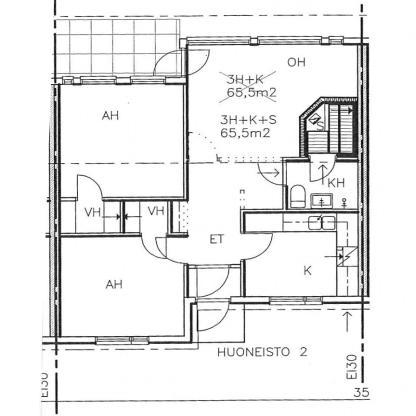bathroom: (284, 161, 362, 212)
door: (150, 48, 211, 80), (181, 266, 232, 300), (192, 297, 232, 335), (153, 234, 192, 267), (306, 147, 338, 185), (238, 230, 275, 262), (73, 173, 108, 204), (140, 232, 170, 261)
perimeter: (54, 42, 364, 340)
window: (185, 34, 348, 48), (60, 72, 170, 86), (264, 294, 332, 308), (92, 334, 156, 346)
